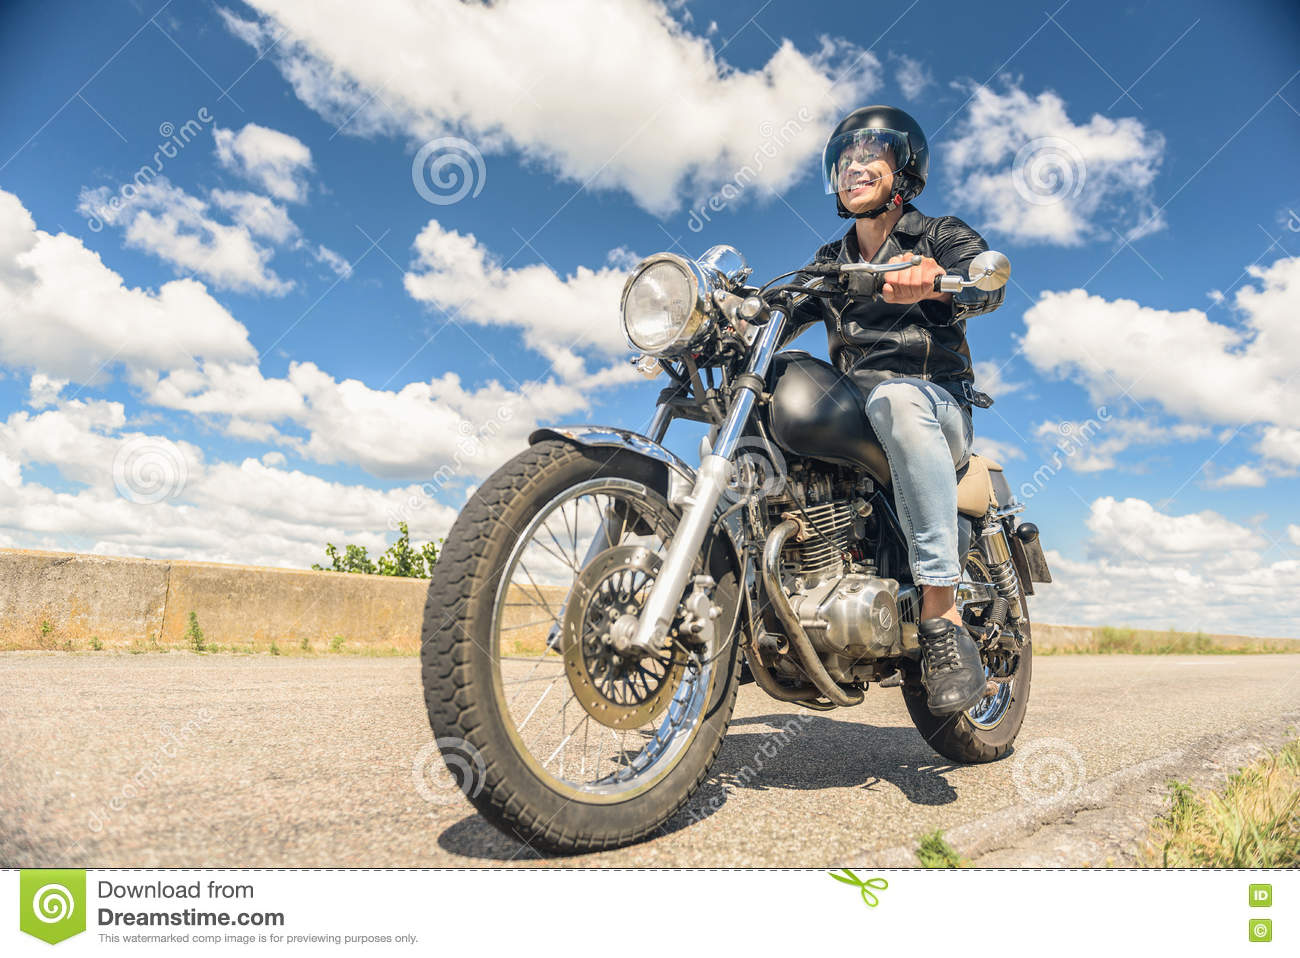helmet: (820, 105, 930, 179)
